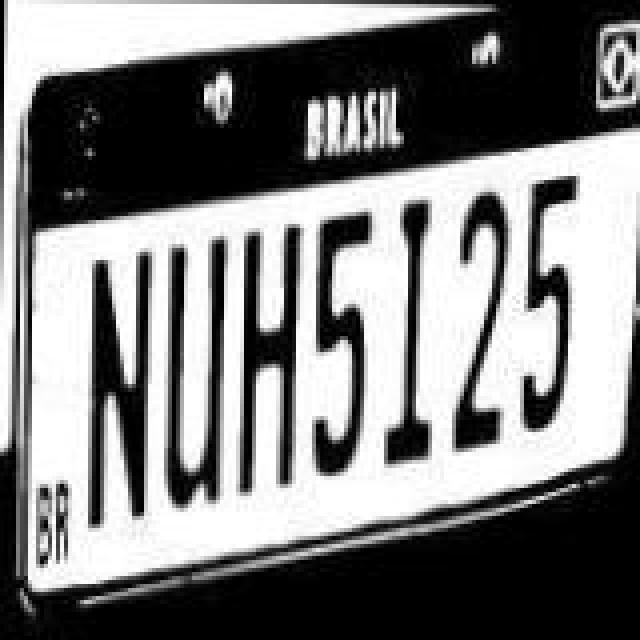2: (442, 178, 518, 462)
5: (308, 200, 380, 484), (518, 170, 586, 438)
H: (234, 218, 310, 506)
I: (378, 188, 446, 476)
N: (84, 246, 160, 554)
U: (156, 230, 232, 530)
